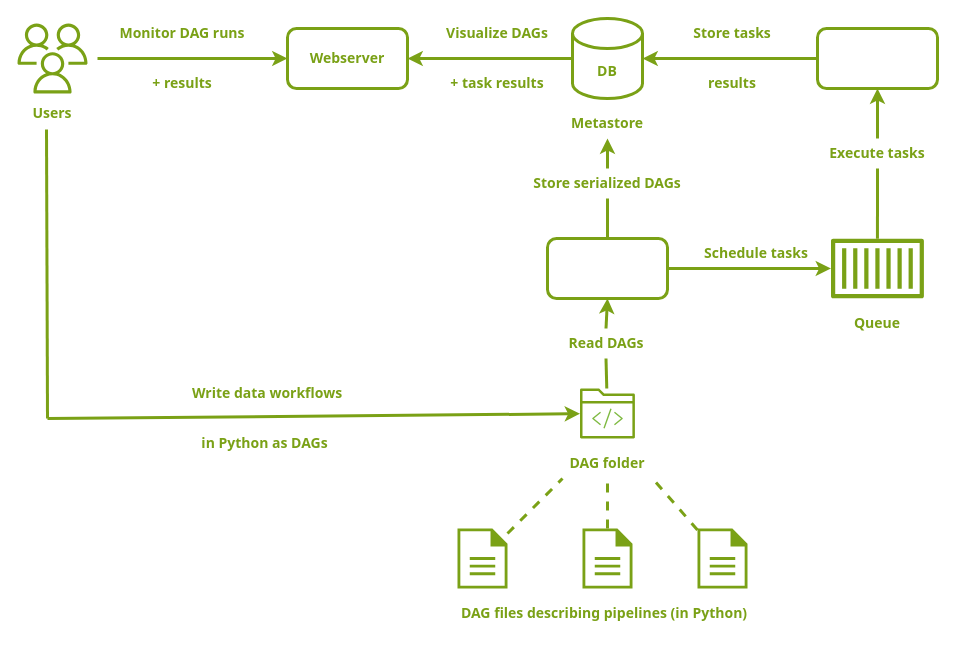
This 969x646 diagram has some shape labels left out. The shapes that lost their labels are listed below. From the top down, each one's centre as x and y in pixels, then its label:
At (877,58): "Workers".
At (607,268): "Scheduler".
